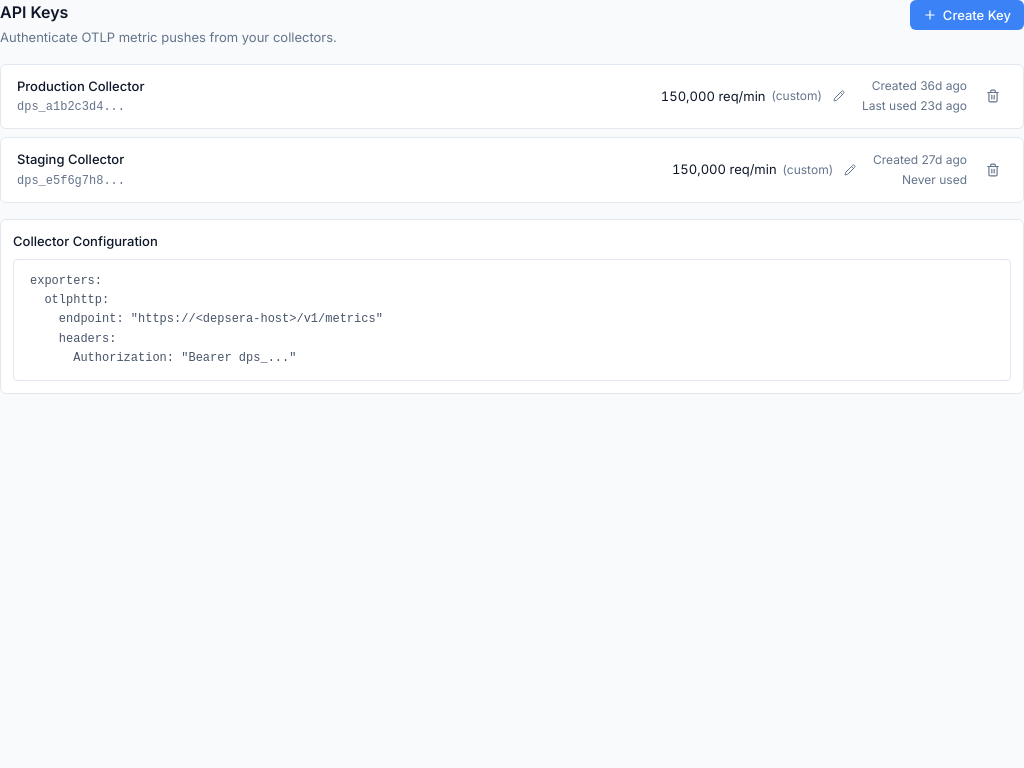
Test case: ApiKeys › delete shows confirm dialog
The width and height of the screenshot is (1024, 768).
expect the text "Production Collector" is shown: met, box [17, 78, 144, 94]
# Click delete button on first key
Click the button titled "Revoke key" next to "36d ago".
click(993, 96)  # box [979, 82, 1007, 110]
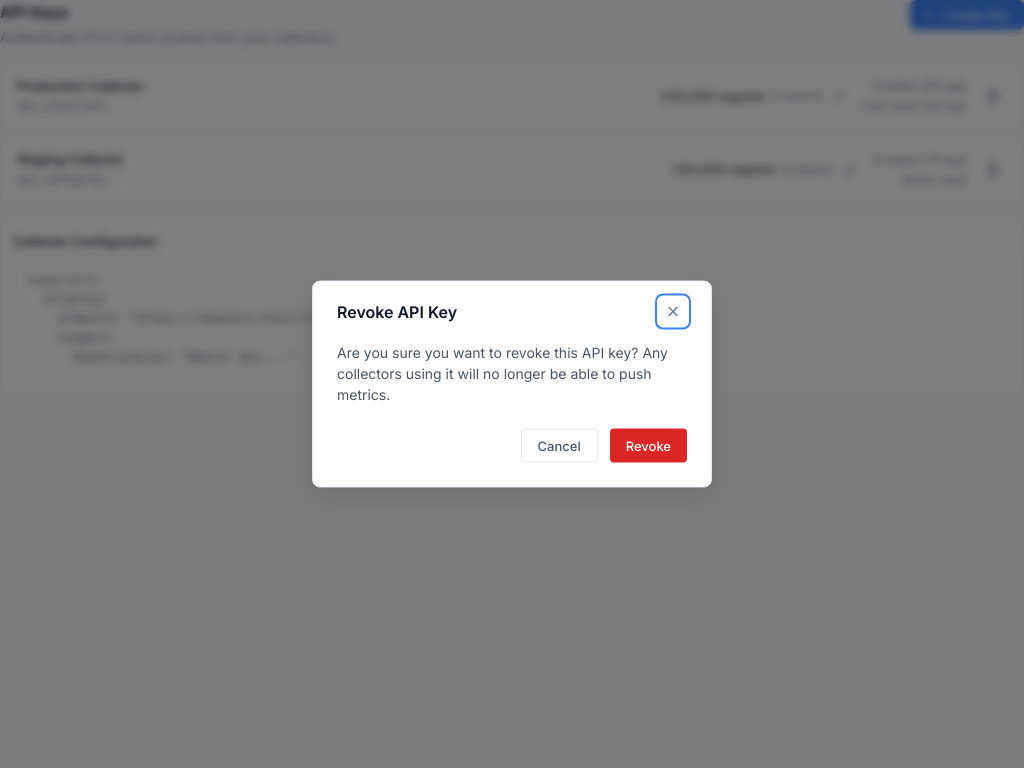
expect the heading "Revoke API Key" is shown: met, box [337, 302, 457, 322]
expect the text "Any collectors using it will no longer be able to push metrics" is shown: met, box [337, 344, 668, 402]
